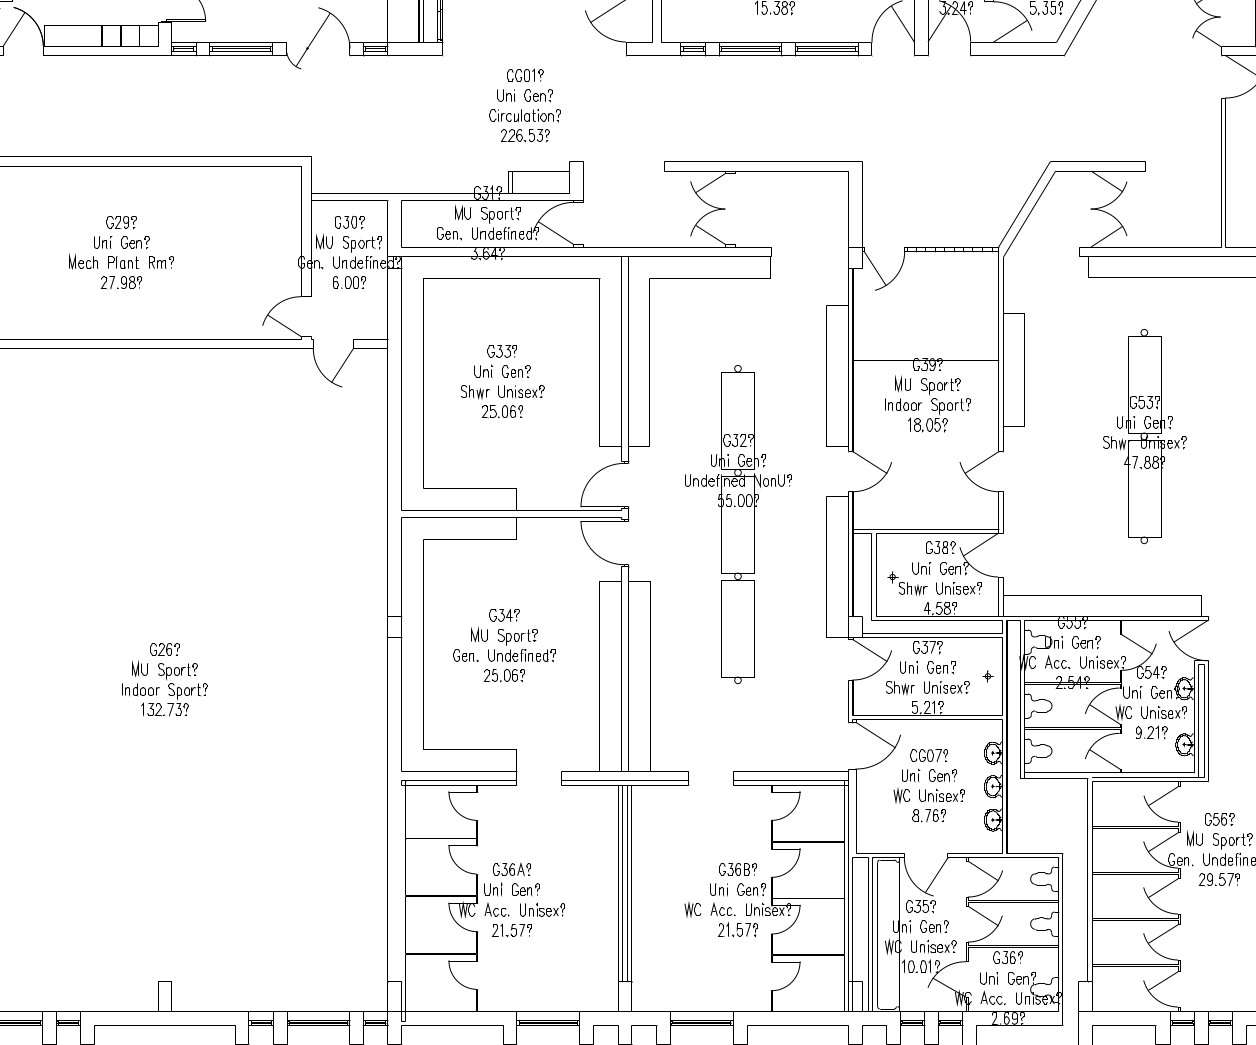door: (283, 1, 358, 74), (1085, 173, 1137, 244), (309, 347, 365, 390), (955, 447, 999, 500), (863, 242, 907, 295), (577, 456, 621, 509), (574, 518, 618, 572), (849, 443, 893, 496), (1176, 1, 1219, 54), (902, 858, 951, 898), (770, 846, 804, 885), (769, 788, 803, 827), (768, 957, 802, 996), (773, 901, 807, 940), (964, 860, 998, 899), (964, 904, 998, 943), (443, 789, 477, 829), (442, 839, 476, 878), (445, 899, 479, 938), (443, 959, 477, 998)
